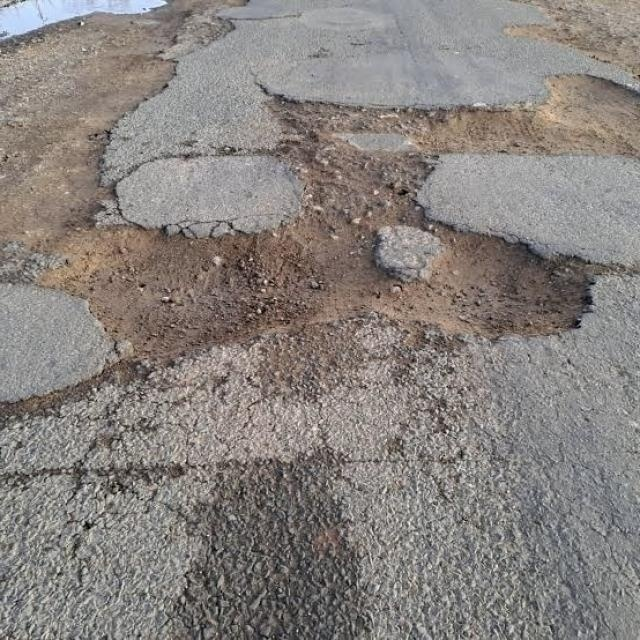pothole: (14, 16, 640, 367)
